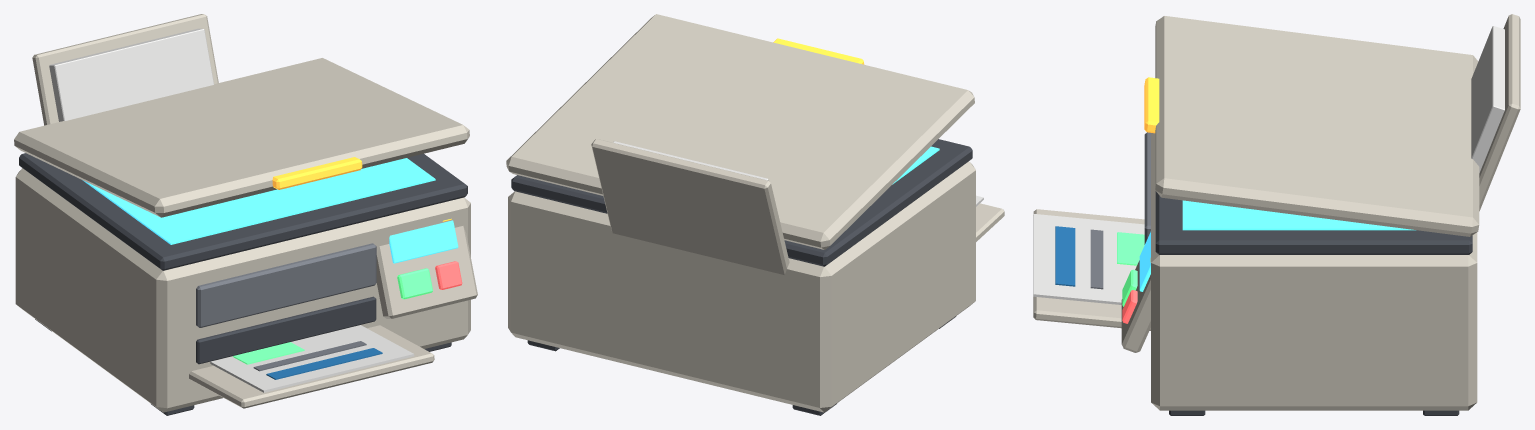
File: Stampante.fbx
3 renders of one model, left to right at view 1: azimuth 30°, elevation 25°; view 2: azimuth 150°, elevation 25°; view 3: azimuth 270°, elevation 25°, orthographic. The views are drawn at different scales.
Visible parts, largest first — view 1: Scanner_Coperchio, Stampante_Corpo, Scanner_Base, Fogli_Ingresso, Scanner_Vetro, Sportello_Cartucce, Foglio_Stampato, Fessura_Uscita_Carta, Pannello_Controllo, Vassoio_Uscita, Vassoio_Ingresso, Display_LCD (+6 smaller); view 2: Stampante_Corpo, Scanner_Coperchio, Vassoio_Ingresso, Scanner_Base, Vassoio_Uscita, Scanner_Maniglia; view 3: Scanner_Coperchio, Stampante_Corpo, Scanner_Base, Foglio_Stampato, Scanner_Vetro, Fogli_Ingresso, Vassoio_Ingresso, Vassoio_Uscita, Pannello_Controllo, Stampa_Intestazione, Scanner_Maniglia, Stampa_Testo_1 (+3 smaller).
Part boxes in pixels (x1,y1,x2,y2): Scanner_Coperchio: (14, 58, 469, 217); Stampante_Corpo: (15, 168, 470, 412); Scanner_Base: (19, 153, 467, 270); Fogli_Ingresso: (49, 28, 214, 121); Scanner_Vetro: (82, 158, 435, 244); Sportello_Cartucce: (196, 243, 376, 327); Foglio_Stampato: (210, 325, 414, 392); Fessura_Uscita_Carta: (196, 296, 376, 364); Pannello_Controllo: (376, 226, 477, 318); Vassoio_Uscita: (189, 325, 434, 408); Vassoio_Ingresso: (32, 14, 218, 125); Display_LCD: (389, 220, 458, 263); Stampante_Corpo: (508, 161, 975, 412); Scanner_Coperchio: (506, 14, 974, 249); Vassoio_Ingresso: (591, 139, 789, 274); Scanner_Base: (511, 139, 972, 266); Vassoio_Uscita: (976, 203, 1004, 241); Scanner_Maniglia: (773, 38, 864, 64); Scanner_Coperchio: (1155, 16, 1479, 236); Stampante_Corpo: (1151, 133, 1477, 410); Scanner_Base: (1155, 191, 1472, 254); Foglio_Stampato: (1033, 214, 1144, 304); Scanner_Vetro: (1182, 200, 1415, 230); Fogli_Ingresso: (1471, 26, 1504, 172); Vassoio_Ingresso: (1479, 14, 1520, 211); Vassoio_Uscita: (1033, 209, 1150, 330); Pannello_Controllo: (1121, 260, 1150, 352); Stampa_Intestazione: (1055, 226, 1075, 286); Scanner_Maniglia: (1144, 77, 1159, 133); Stampa_Testo_1: (1090, 229, 1103, 289).
Bounding box in the file's own units: 44 × 32.15 × 53.78.
